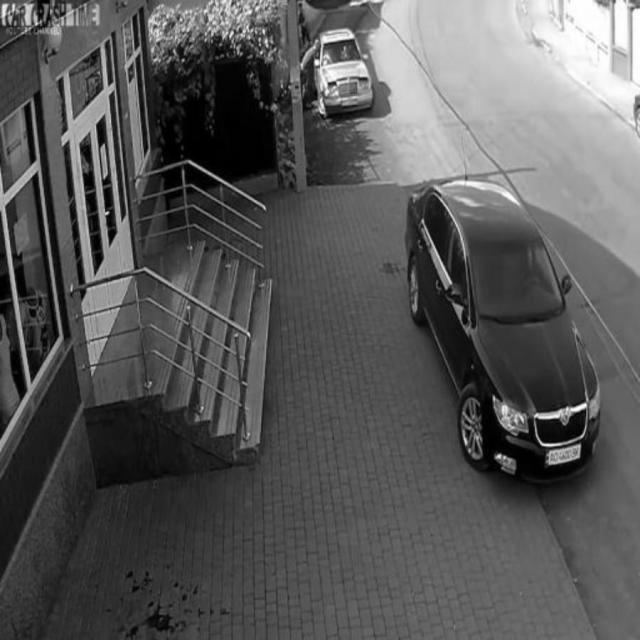vehicle: (408, 182, 603, 466), (317, 30, 374, 116)
